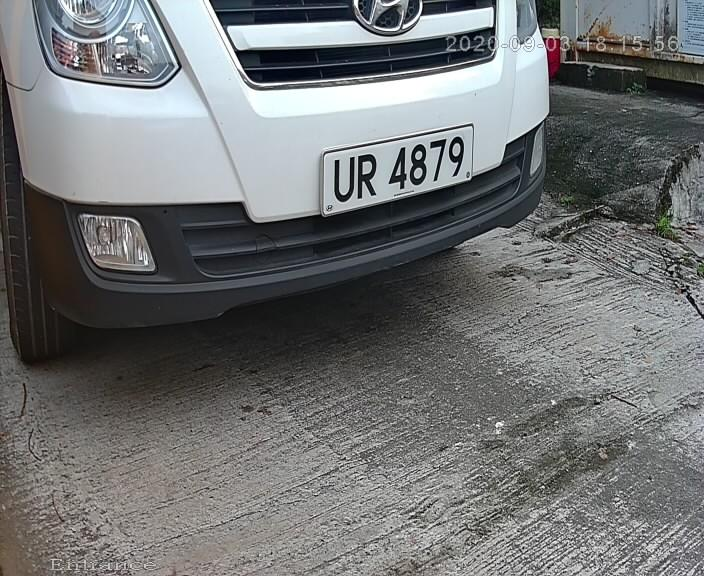License Plate: (309, 119, 481, 222)
